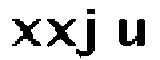j: (77, 7, 105, 59)
u: (116, 16, 147, 48)
x: (8, 16, 42, 47), (46, 16, 78, 46)
